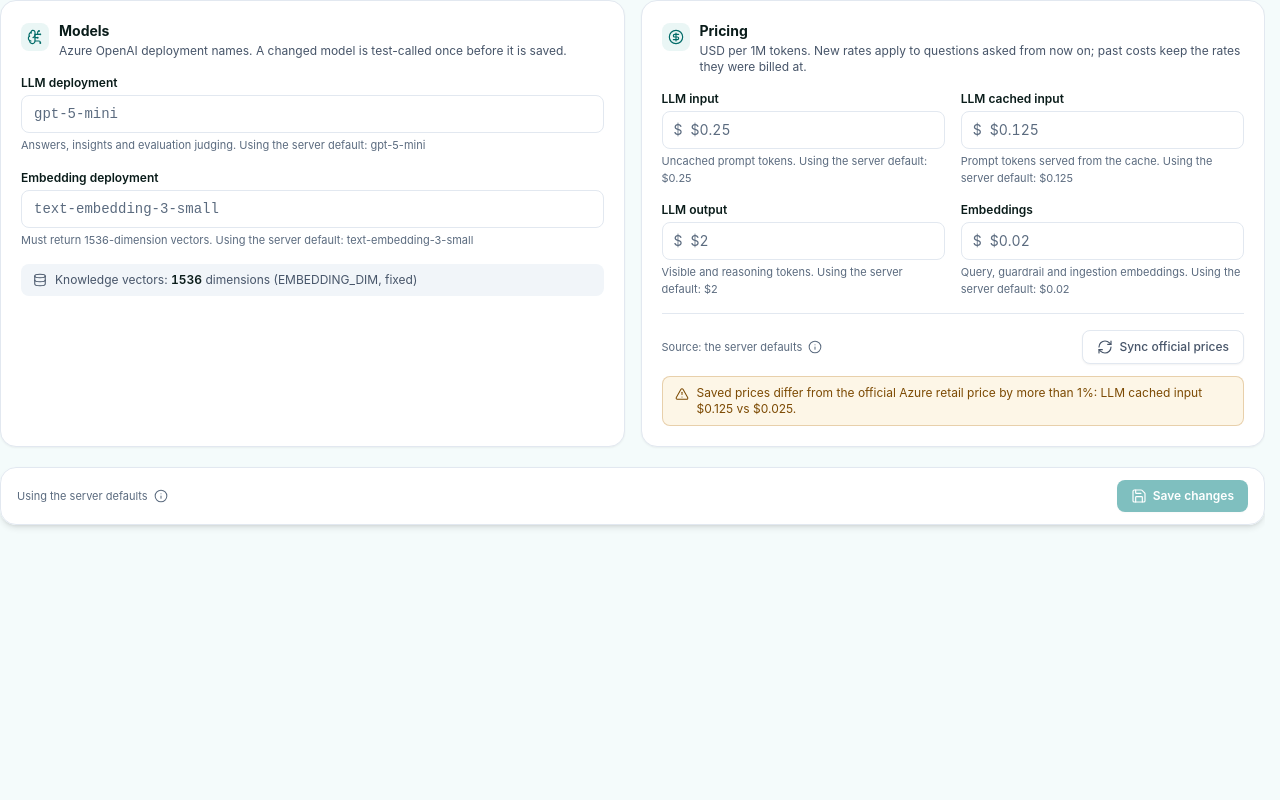
Scenario: Settings → Sync official prices › shows the reason when the sync fails
Click the button "Sync official prices" at (1163, 347), box [1082,330,1244,364]
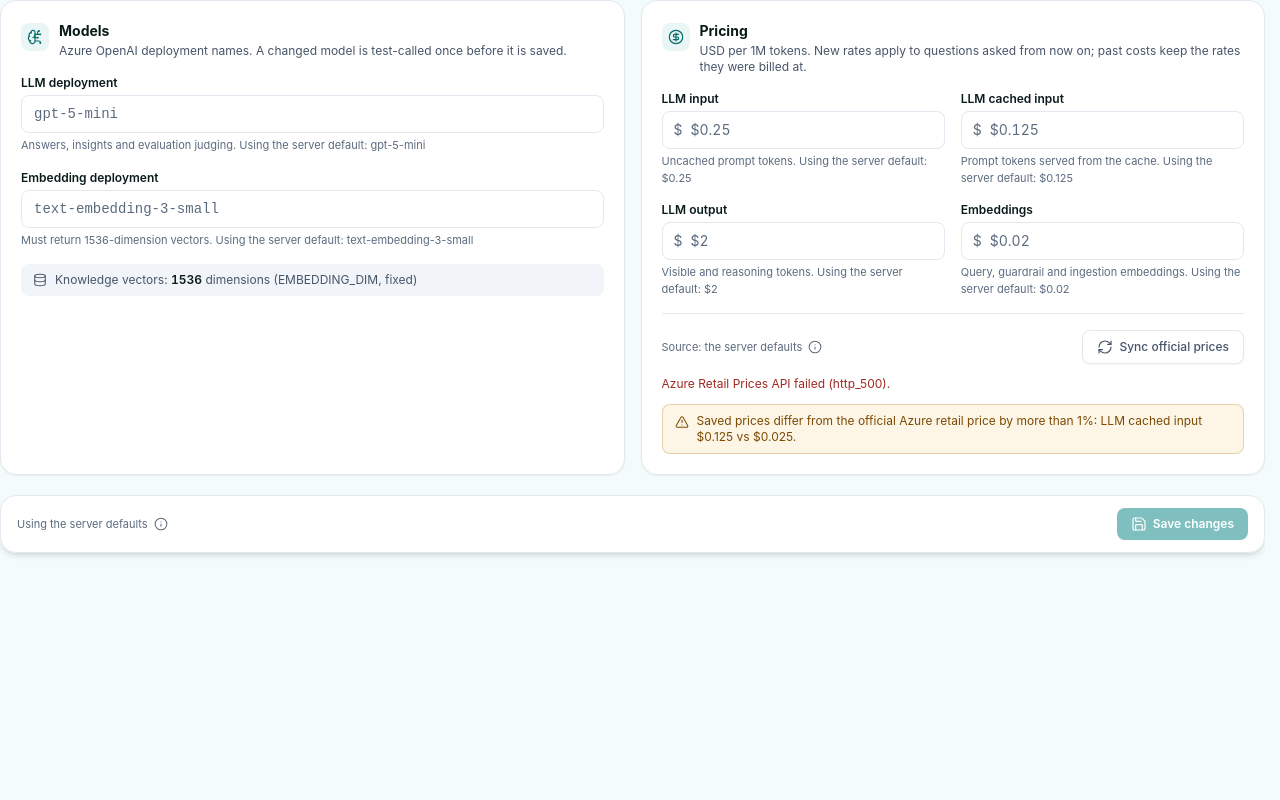
Now the message "Azure Retail Prices API failed (http_500)." is shown, box [662,376,890,391]
